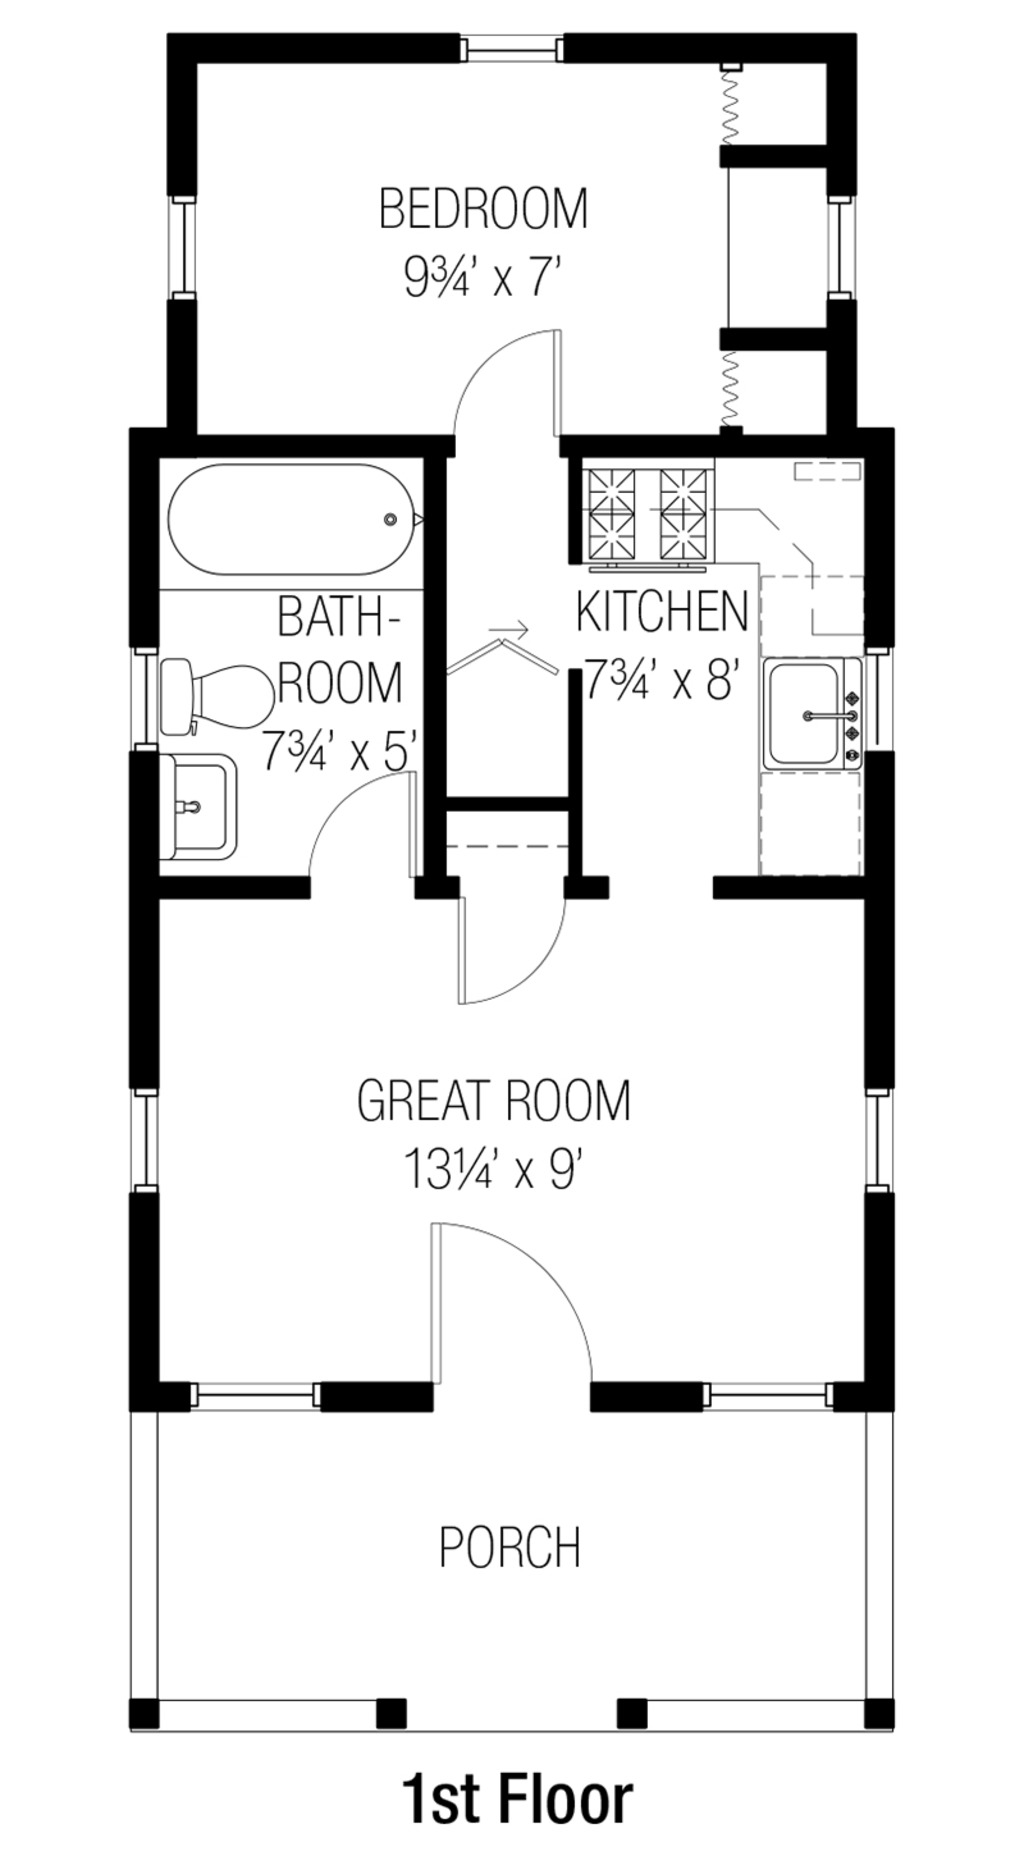door: (407, 1199, 602, 1408), (433, 322, 584, 453), (450, 873, 590, 1012), (299, 768, 422, 905)
large_sink: (113, 648, 296, 757)
sink: (747, 653, 904, 786)
tub: (161, 459, 430, 596)
window: (179, 1373, 324, 1422), (159, 188, 207, 299), (459, 32, 583, 71), (710, 1376, 834, 1413), (863, 1076, 902, 1193), (136, 1073, 166, 1192), (827, 190, 844, 299)
